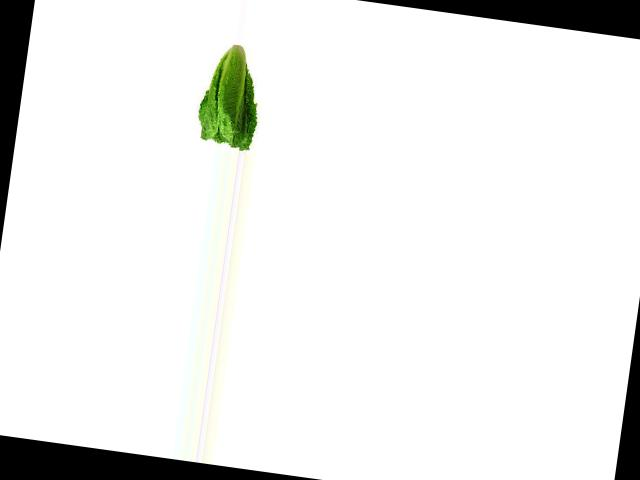lettuce: (187, 40, 269, 152)
